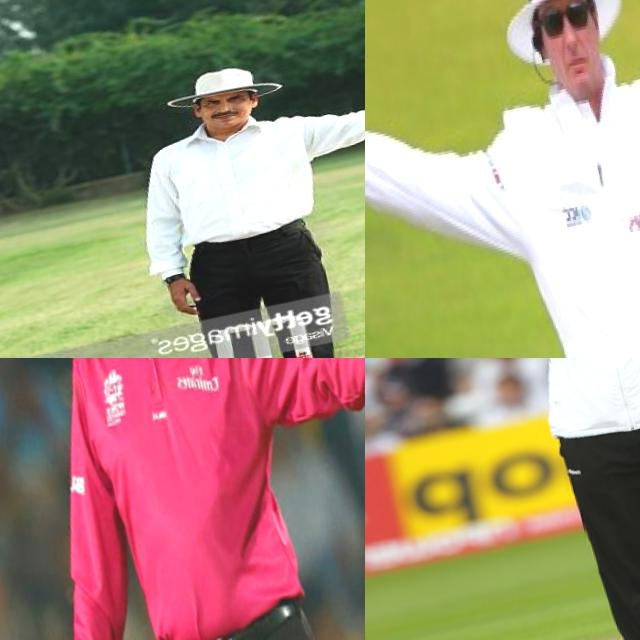No_Ball: (0, 358, 365, 640), (113, 1, 365, 358)
Six: (366, 358, 640, 640)
Wide: (365, 0, 640, 358)
